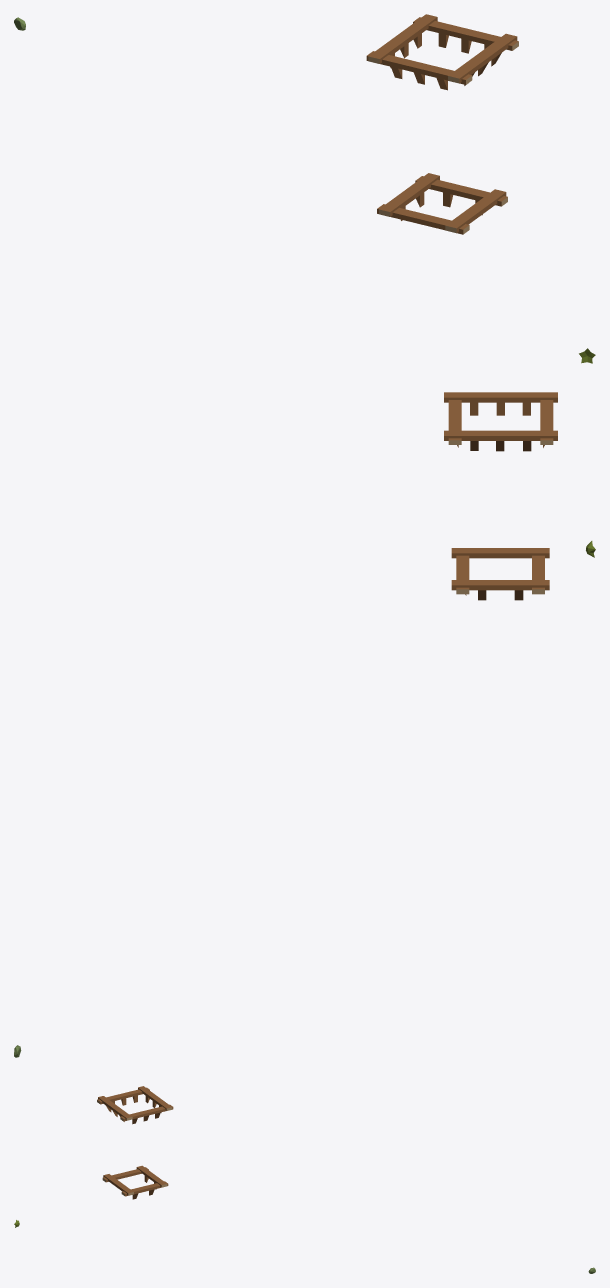
The picture shows the model from 3 angles, top to bottom: view 1: azimuth 30°, elevation 25°; view 2: azimuth 150°, elevation 25°; view 3: azimuth 270°, elevation 25°; orthographic projection. The views are drawn at different scales.
Parts seen in each view (by area): view 1: Box15619_brown_0, Box15610_brown_0; view 2: Box15619_brown_0, Box15610_brown_0; view 3: Box15619_brown_0, Box15610_brown_0.
Part boxes in pixels (bbox=[...]): Box15619_brown_0: bbox=[366, 14, 518, 90]; Box15610_brown_0: bbox=[377, 173, 507, 234]; Box15619_brown_0: bbox=[444, 392, 557, 451]; Box15610_brown_0: bbox=[451, 548, 549, 600]; Box15619_brown_0: bbox=[97, 1086, 173, 1124]; Box15610_brown_0: bbox=[103, 1165, 168, 1199].
Bounding box in the file's own units: 761 × 1795 × 5793.
